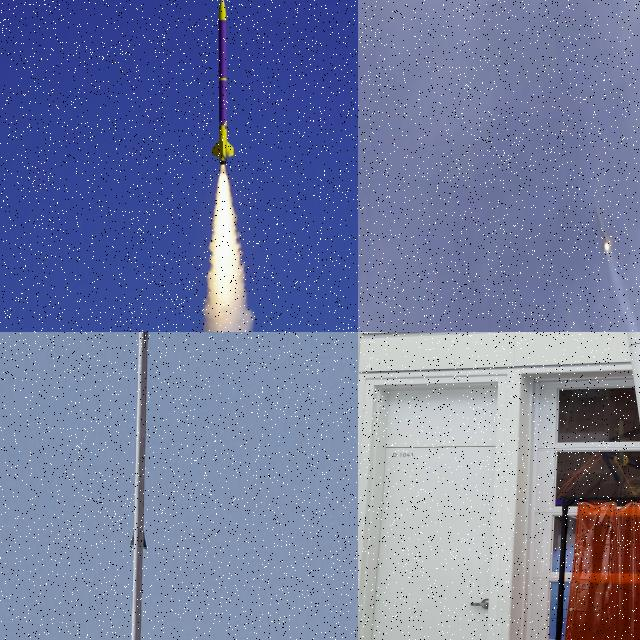Rocket: (118, 332, 153, 640), (207, 0, 237, 165), (595, 207, 613, 250)
